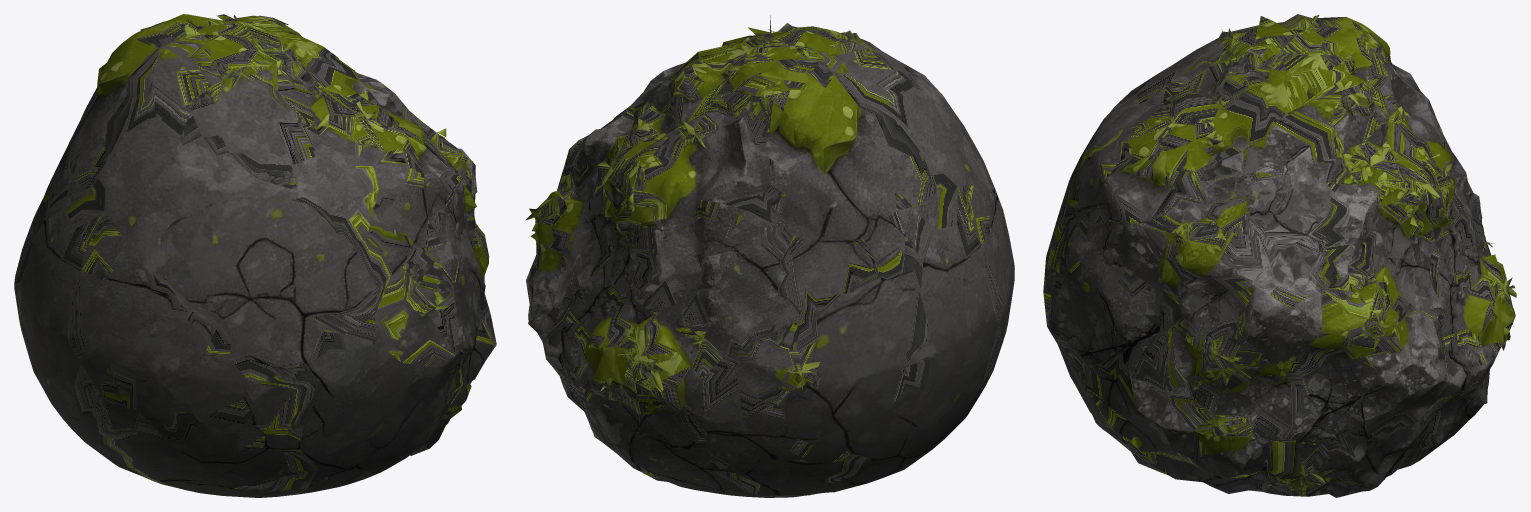
File: mossy_coal_ore_rock_01.glb
3 renders of one model, left to right at view 1: azimuth 30°, elevation 25°; view 2: azimuth 150°, elevation 25°; view 3: azimuth 270°, elevation 25°, orthographic. The views are drawn at different scales.
Visible parts, largest first — view 1: tripo_node_c8078f43-1de4-4b4c-a1ad-1c94f570e059; view 2: tripo_node_c8078f43-1de4-4b4c-a1ad-1c94f570e059; view 3: tripo_node_c8078f43-1de4-4b4c-a1ad-1c94f570e059.
Part boxes in pixels (left/top/right/bottom): tripo_node_c8078f43-1de4-4b4c-a1ad-1c94f570e059: left=14, top=14, right=496, bottom=497; tripo_node_c8078f43-1de4-4b4c-a1ad-1c94f570e059: left=525, top=15, right=1014, bottom=497; tripo_node_c8078f43-1de4-4b4c-a1ad-1c94f570e059: left=1043, top=14, right=1516, bottom=497.
Size of the model in its own units: 0.965 by 0.9656 by 0.9878.
Materials: 1 (1 with a texture image).
